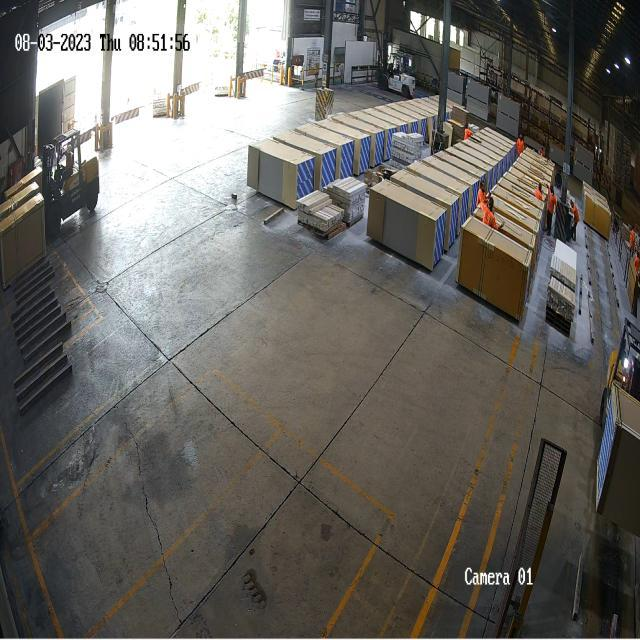driver: (57, 145, 74, 180)
forklift: (42, 126, 102, 245), (379, 48, 417, 100)
person: (545, 183, 556, 239), (482, 197, 498, 232), (570, 198, 580, 242), (516, 134, 524, 155), (478, 181, 485, 204)
